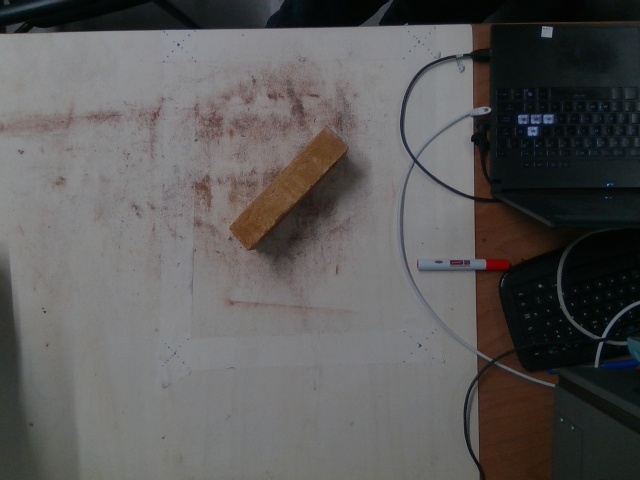brick-side: (232, 126, 346, 247)
